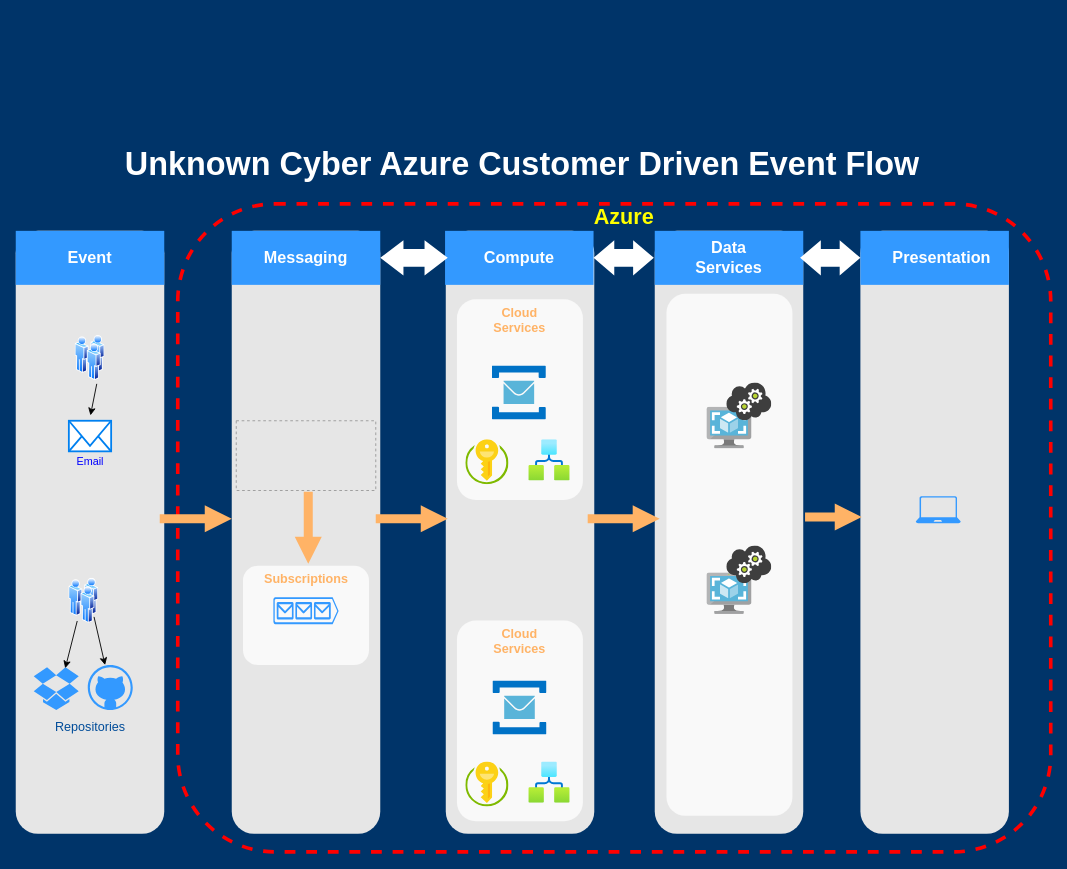
Some shapes in this 1067 by 869 pixel diagram are drawn without their labels. Grey dashed boxes stand in for pictures. The box of each missing label's shape, as (x1, y1, x2, y2) in pixels:
Alerts: (273, 597, 338, 624)
Portal: (915, 496, 960, 523)
Security Analytics: (666, 293, 792, 815)
